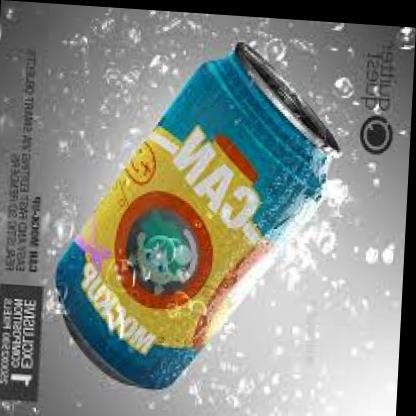trash: (56, 43, 338, 388)
